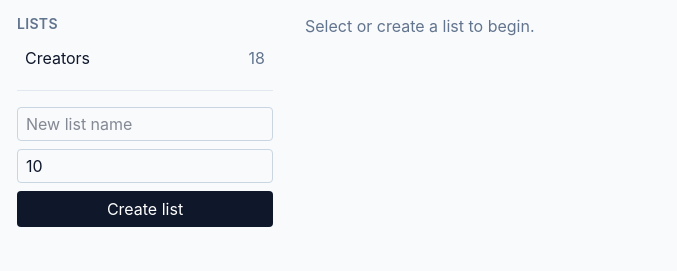
Test: WaitingListsView › creates a list and makes it active
expect the text "Select or create a list to begin." is shown: met, box [305,16,534,36]
In the field labelled "list name": (145, 124) [17,107,273,141], type "New"
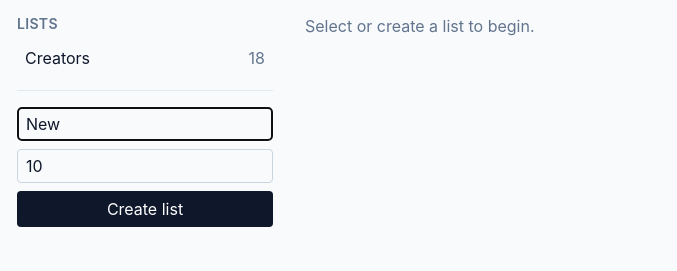
Click the button "Create list": (145, 209) [17,191,273,227]
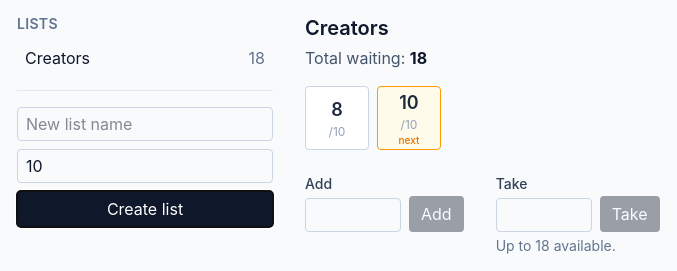
expect the text "Total waiting:" is shown: met, box [305,48,410,68]
expect the text "Select or create a list to begin." is gone: met
